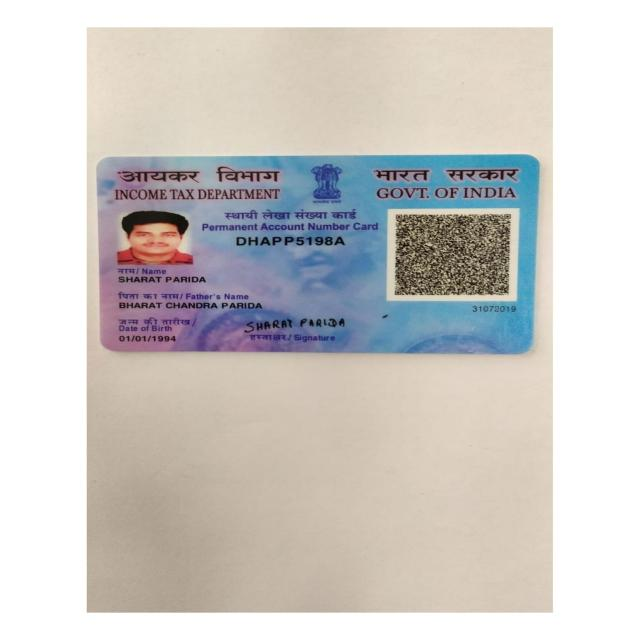pan_card: (102, 157, 530, 353)
